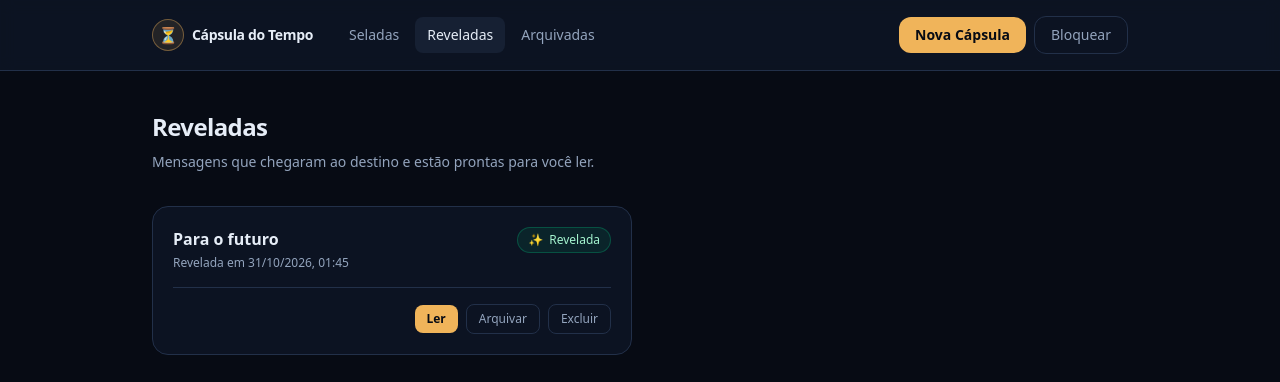
it: listas de reveladas e arquivadas › arquiva uma cápsula revelada e atualiza a lista
Check: the link "Para o futuro" is shown, box [173,228,279,250]
Click the button "Arquivar" at coordinates (503, 319), box [466,304,540,334]
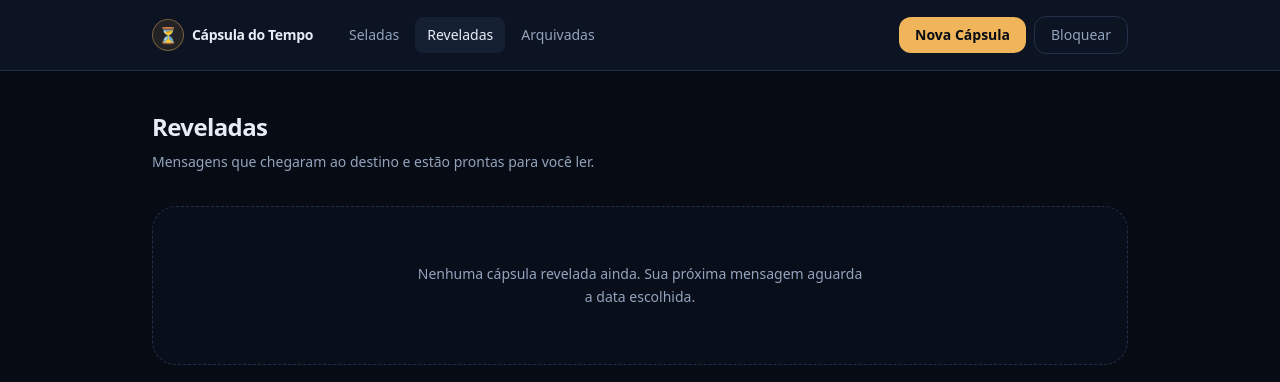
Check: the text "Nenhuma cápsula revelada ainda. Sua próxima mensagem aguarda a data escolhida." is shown, box [416,263,864,308]
